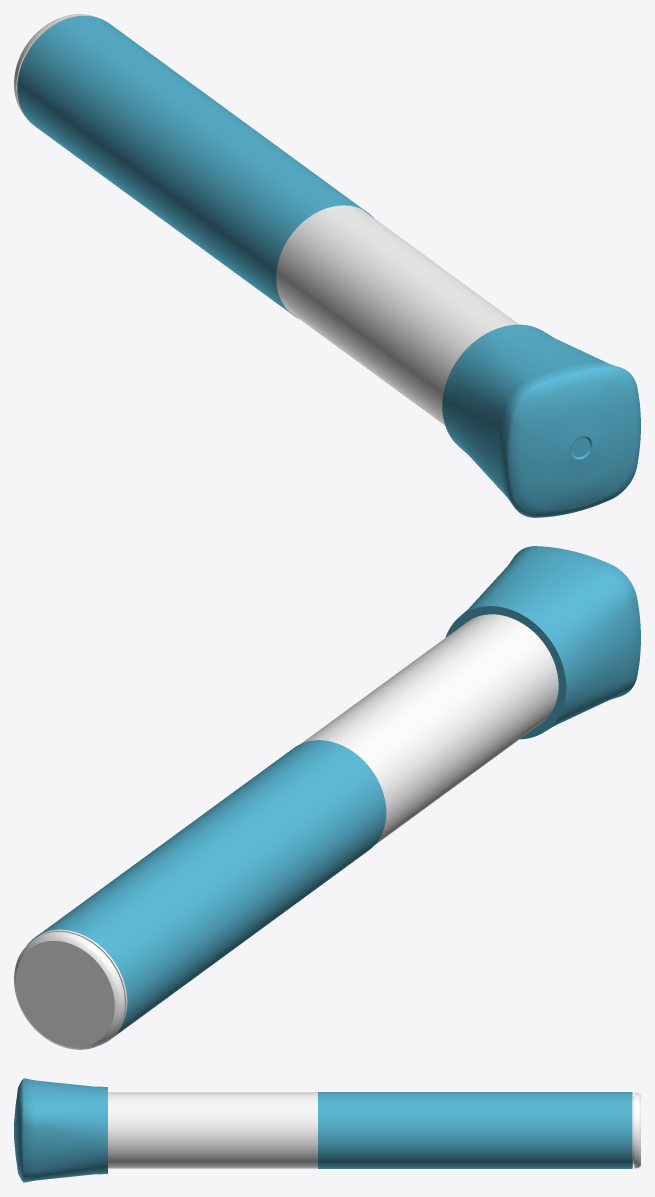
The model's file is cap1.glb.
3 renders of one model, top to bottom at view 1: azimuth 30°, elevation 25°; view 2: azimuth 150°, elevation 25°; view 3: azimuth 270°, elevation 25°, orthographic. The views are drawn at different scales.
Parts seen in each view (by area): view 1: Label, Body; view 2: Label, Body; view 3: Label, Body.
Part boxes in pixels (bbox=[...]): Label: bbox=[17, 16, 640, 517]; Body: bbox=[14, 14, 518, 425]; Label: bbox=[26, 546, 640, 1044]; Body: bbox=[14, 614, 558, 1049]; Label: bbox=[14, 1078, 632, 1182]; Body: bbox=[108, 1092, 640, 1168].
Size of the model in its own units: 2.92 by 2.93 by 19.38.
Materials: 2 (1 with a texture image).
